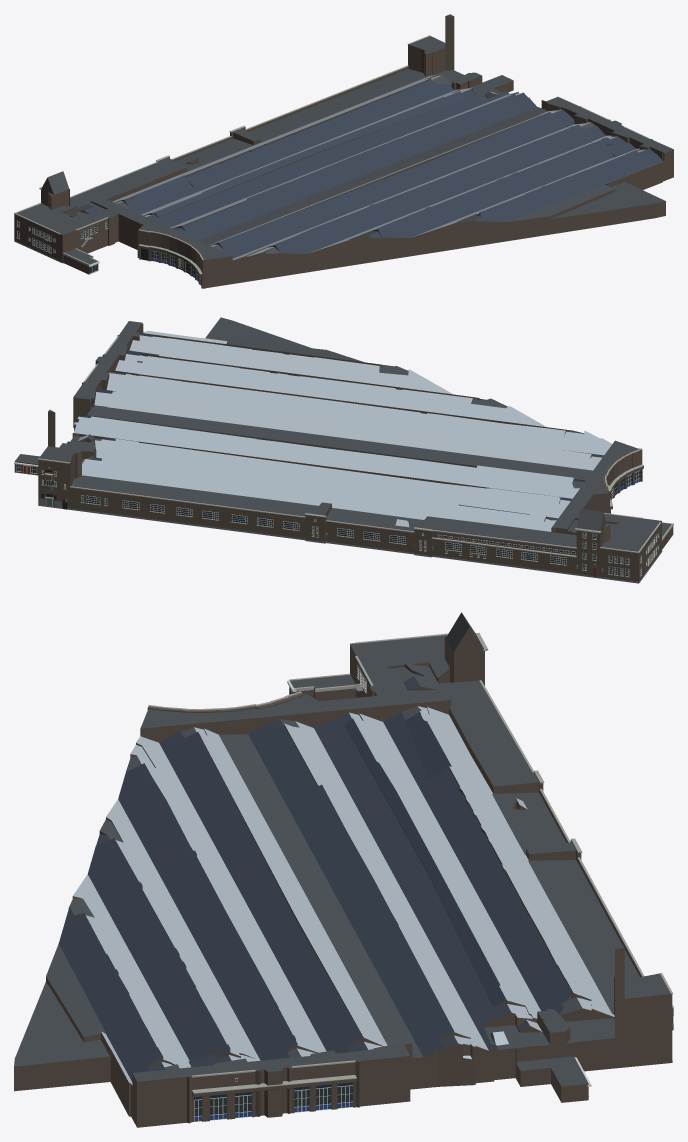
The model's file is tramremise-lekstraat.glb.
3 renders of one model, top to bottom at view 1: azimuth 30°, elevation 25°; view 2: azimuth 150°, elevation 25°; view 3: azimuth 270°, elevation 25°, orthographic. The views are drawn at different scales.
Parts seen in each view (by area): view 1: tramremise-lekstraat; view 2: tramremise-lekstraat; view 3: tramremise-lekstraat.
Boxes of the visible parts, x1,y1,x2,y2 form: tramremise-lekstraat: (14,14,673,288); tramremise-lekstraat: (14,317,673,583); tramremise-lekstraat: (14,612,673,1127).
Bounding box in the file's own units: 210 × 26.18 × 131.
